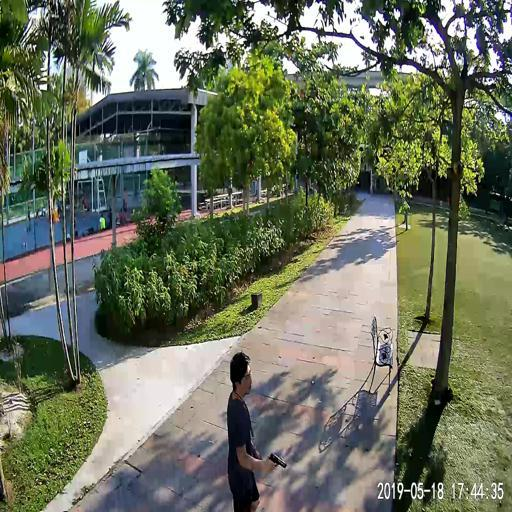Handgun: (265, 449, 289, 475)
